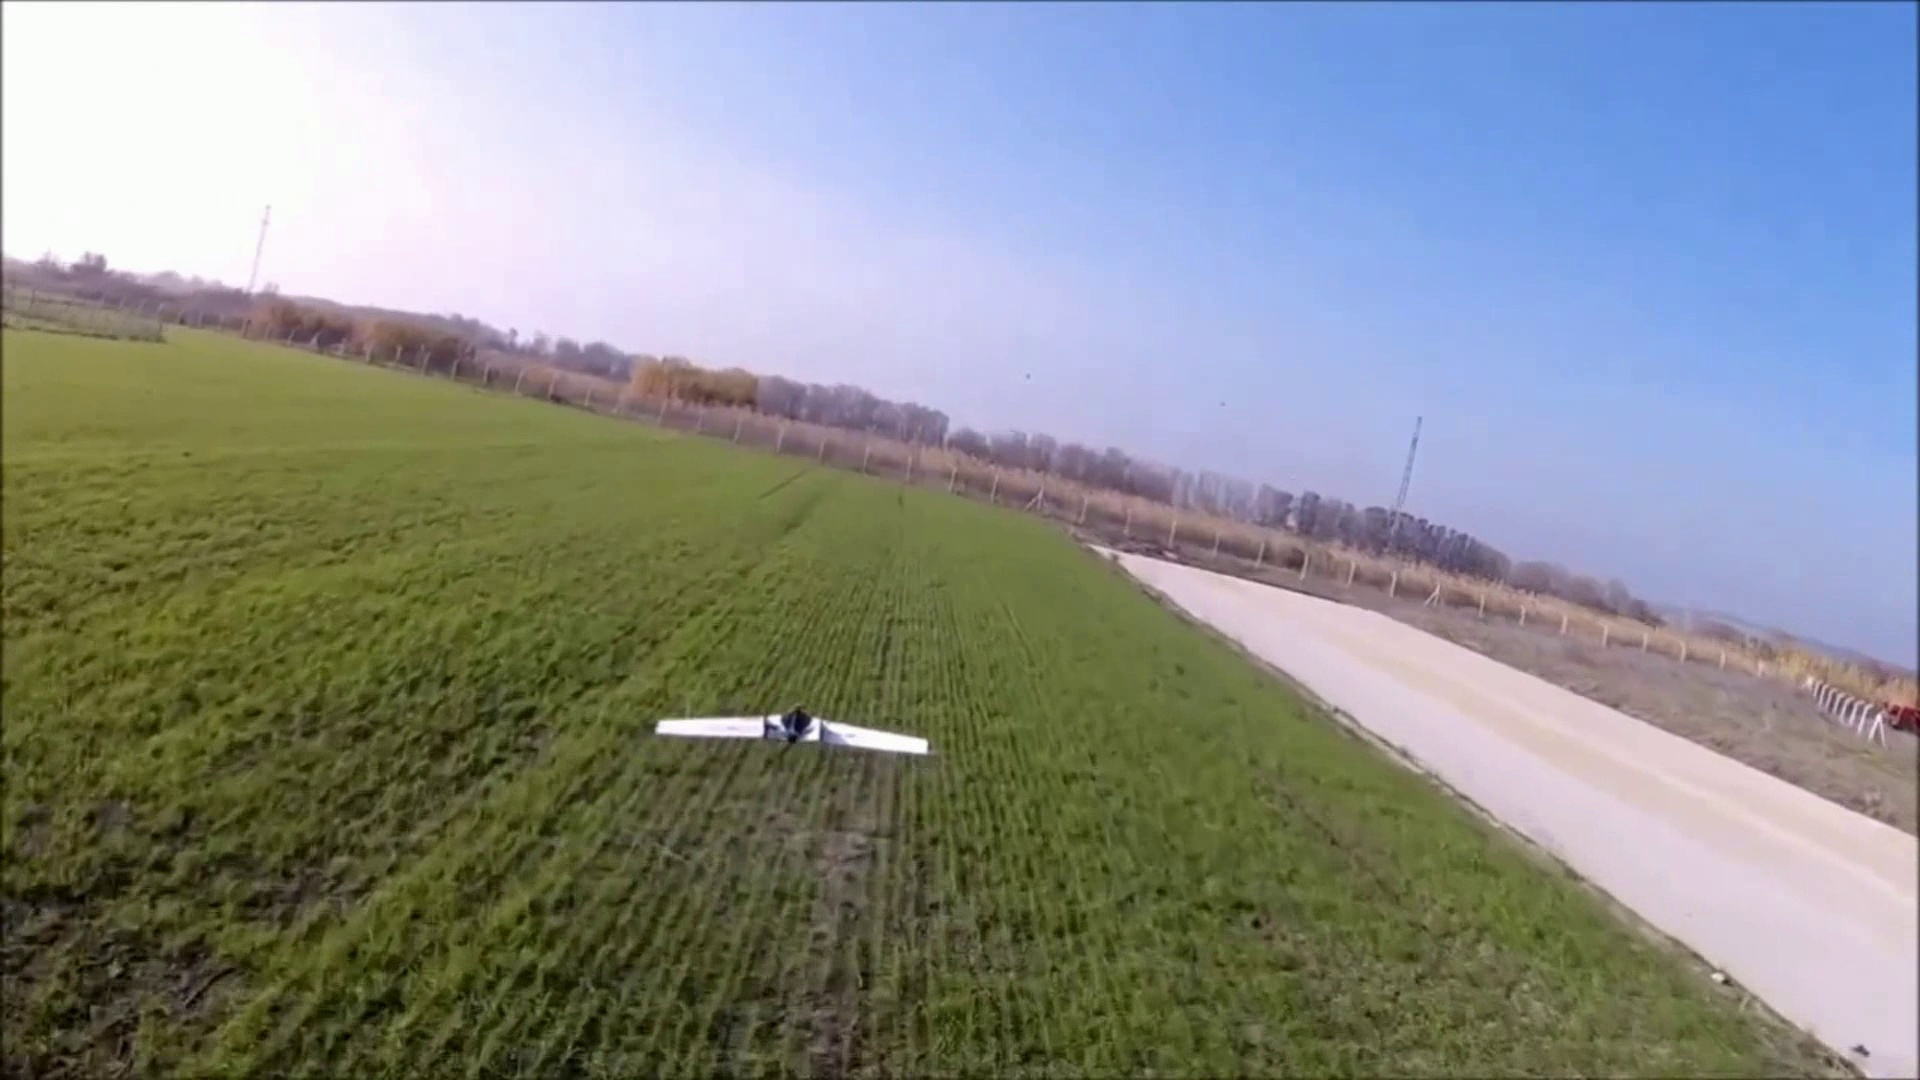airplane: (655, 703, 932, 761)
